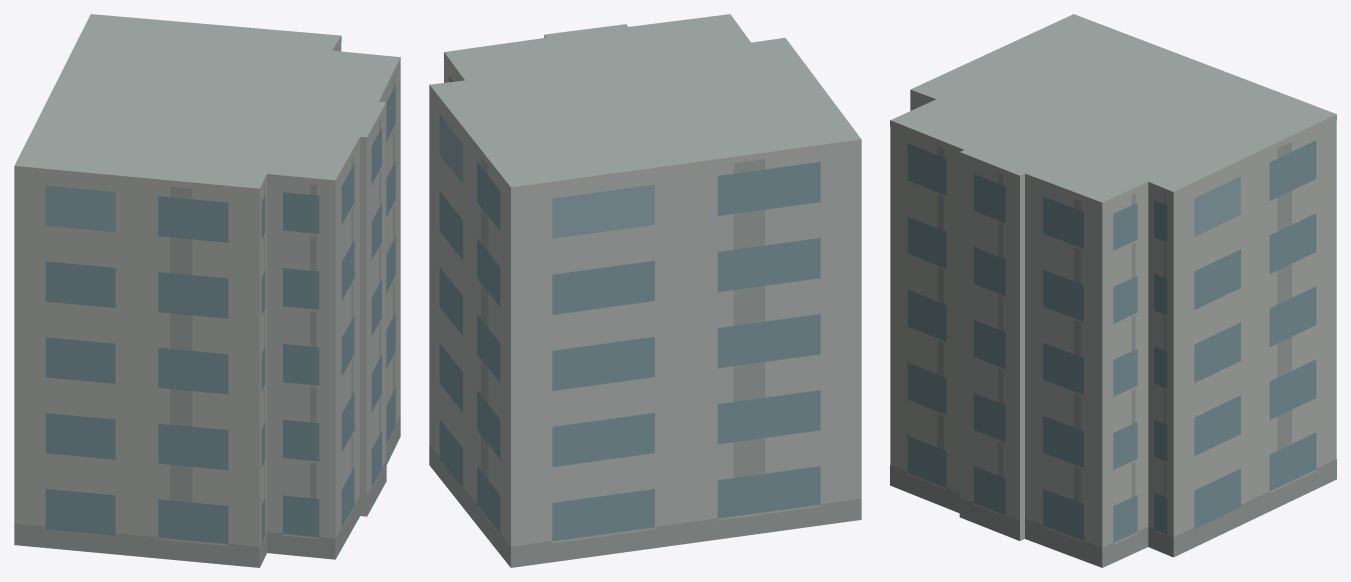
Rendered from survey-upis-32801904.glb.
The picture shows the model from 3 angles, left to right: view 1: azimuth 30°, elevation 25°; view 2: azimuth 150°, elevation 25°; view 3: azimuth 270°, elevation 25°; orthographic projection. The views are drawn at different scales.
Parts seen in each view (by area): view 1: survey-upis-32801904.tmp; view 2: survey-upis-32801904.tmp; view 3: survey-upis-32801904.tmp.
Part boxes in pixels (left/top/right/bottom): survey-upis-32801904.tmp: left=14, top=14, right=400, bottom=567; survey-upis-32801904.tmp: left=429, top=14, right=861, bottom=567; survey-upis-32801904.tmp: left=890, top=14, right=1336, bottom=567.
Size of the model in its own units: 16.06 by 14.5 by 16.07.
